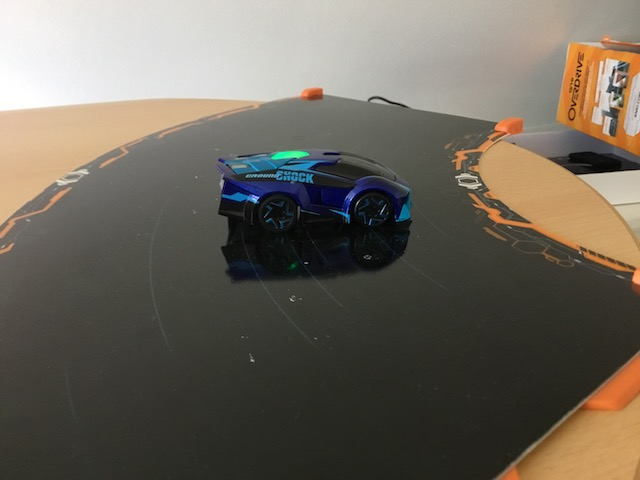car-blue: (211, 145, 416, 242)
